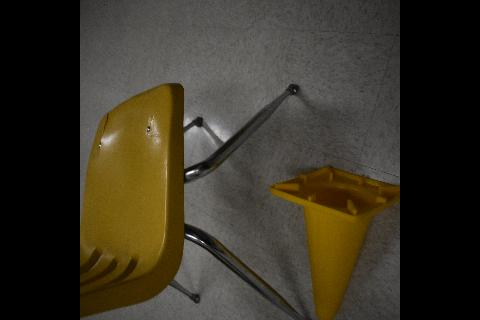cube: (268, 164, 400, 320)
